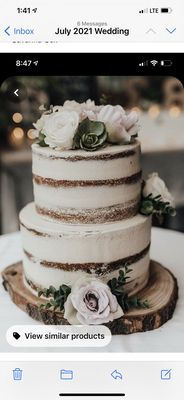sushi: (10, 104, 176, 328)
